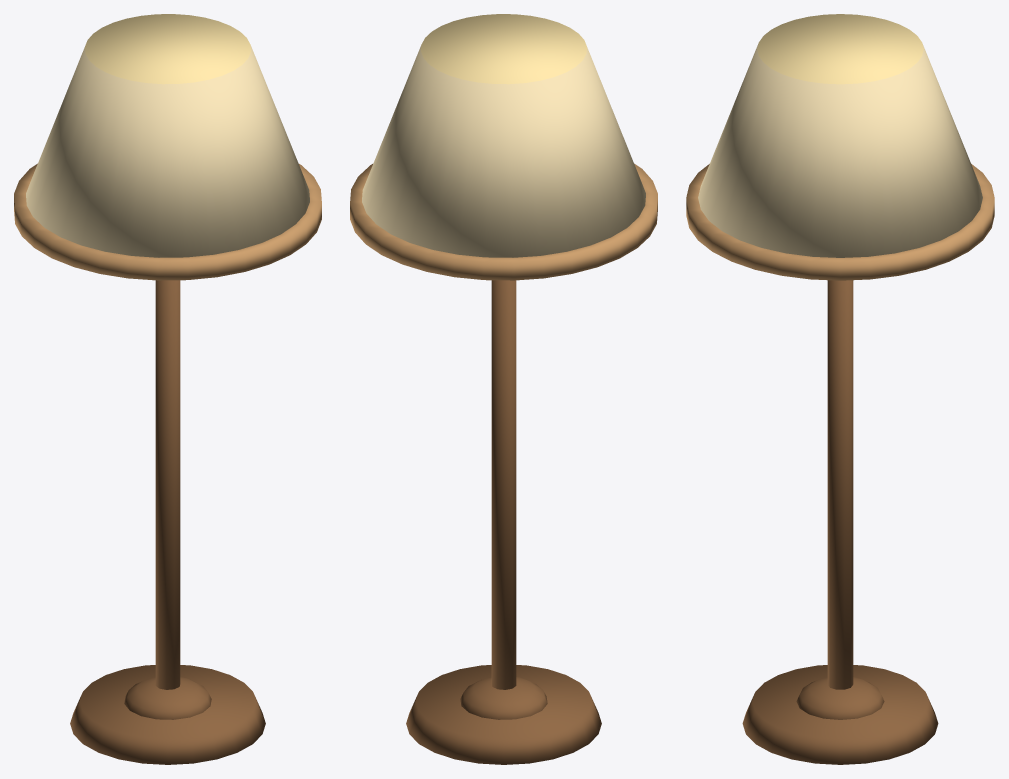
File: floor-lamp.glb
3 renders of one model, left to right at view 1: azimuth 30°, elevation 25°; view 2: azimuth 150°, elevation 25°; view 3: azimuth 270°, elevation 25°, orthographic.
Visible parts, largest first — view 1: lamp; view 2: lamp; view 3: lamp.
Boxes of the visible parts, <box> form: lamp: <box>14,14,321,764</box>; lamp: <box>350,14,657,764</box>; lamp: <box>686,14,994,764</box>.
Size of the model in its own units: 0.63 by 1.52 by 0.63.
